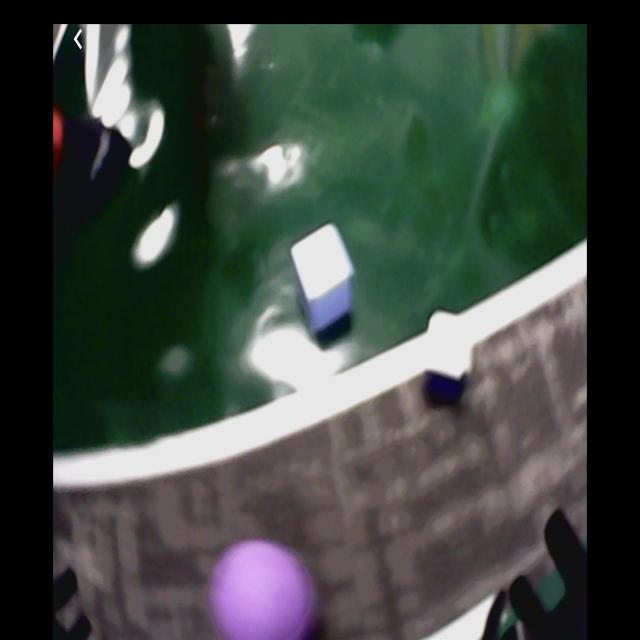ball: (213, 539, 315, 640)
